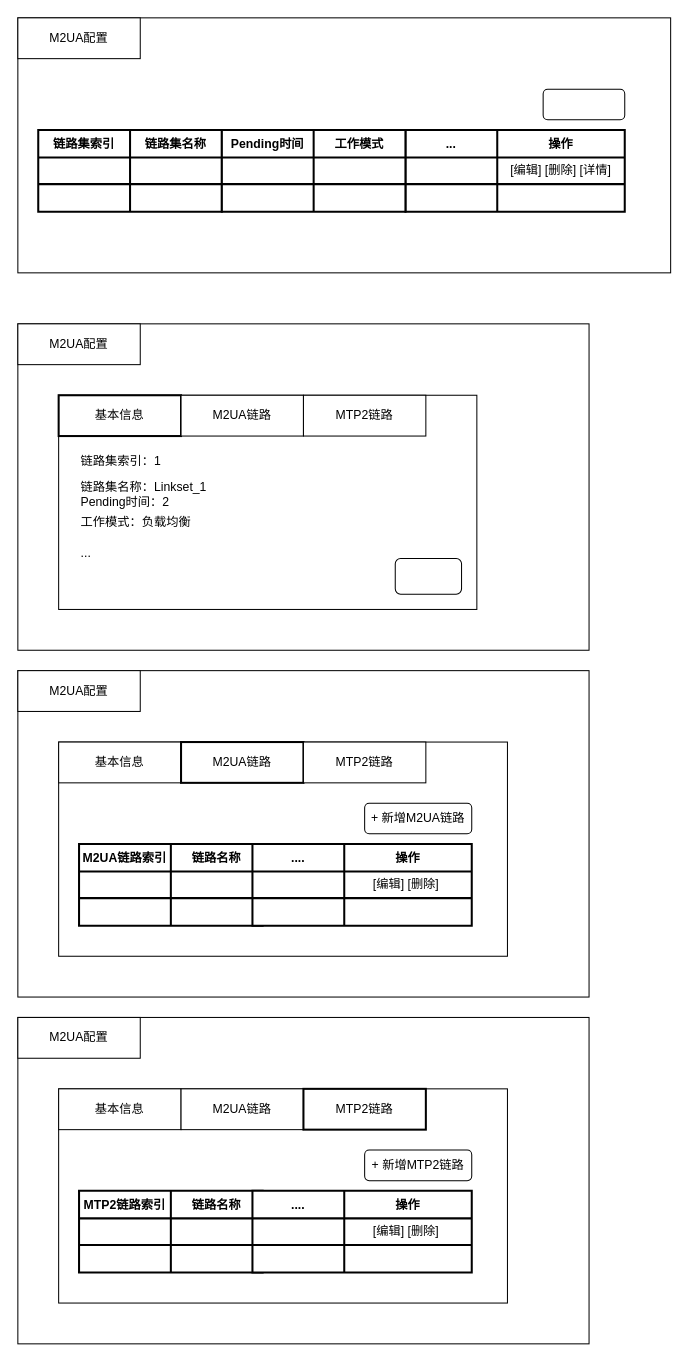
Image size: 689x1362. Some labels were removed from this diagram. The shapes that lost their labels are listed below. From the top down, each one's centre as x and y in pixels, then its label:
At point 583,104: "+ 新增链路集".
At point 428,575: "关闭".
